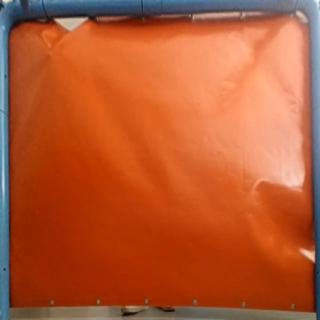Hit-hRxx: (42, 46, 59, 64)
